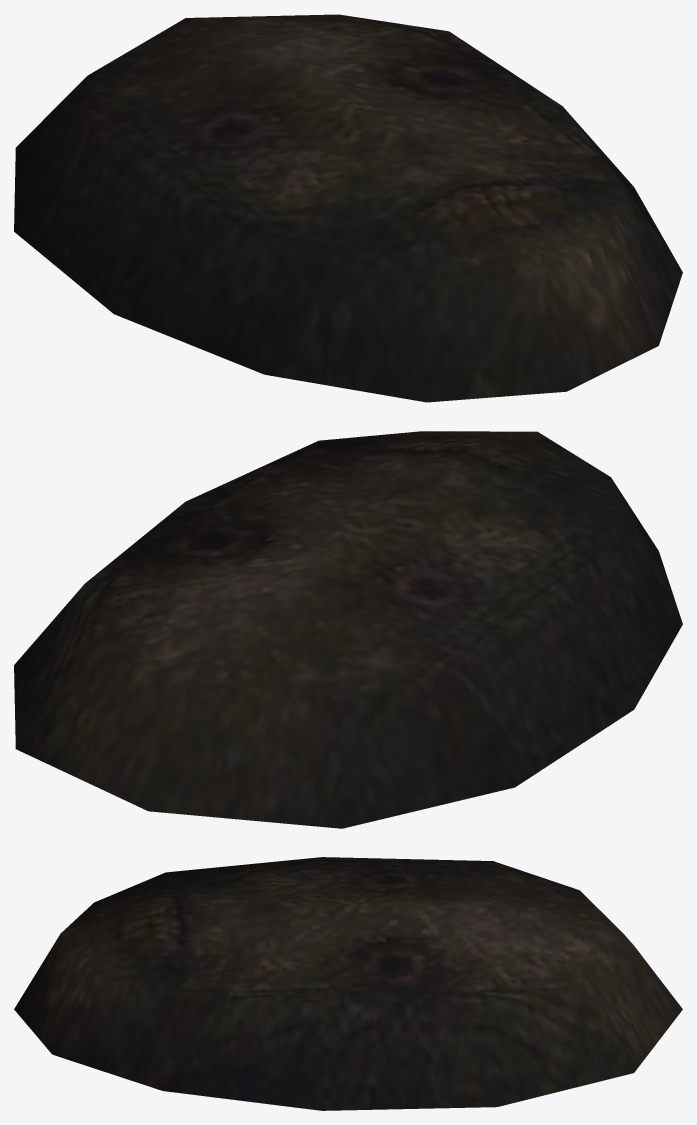
The model's file is mask_mx_3_1.obj.
3 renders of one model, top to bottom at view 1: azimuth 30°, elevation 25°; view 2: azimuth 150°, elevation 25°; view 3: azimuth 270°, elevation 25°, orthographic. The views are drawn at different scales.
Visible parts, largest first — view 1: mask_mx_3_1; view 2: mask_mx_3_1; view 3: mask_mx_3_1.
Part boxes in pixels (left/top/right/bottom): mask_mx_3_1: left=14, top=14, right=682, bottom=402; mask_mx_3_1: left=14, top=431, right=682, bottom=828; mask_mx_3_1: left=14, top=857, right=682, bottom=1110.
Bounding box in the file's own units: 0.2297 × 0.0554 × 0.3198.
